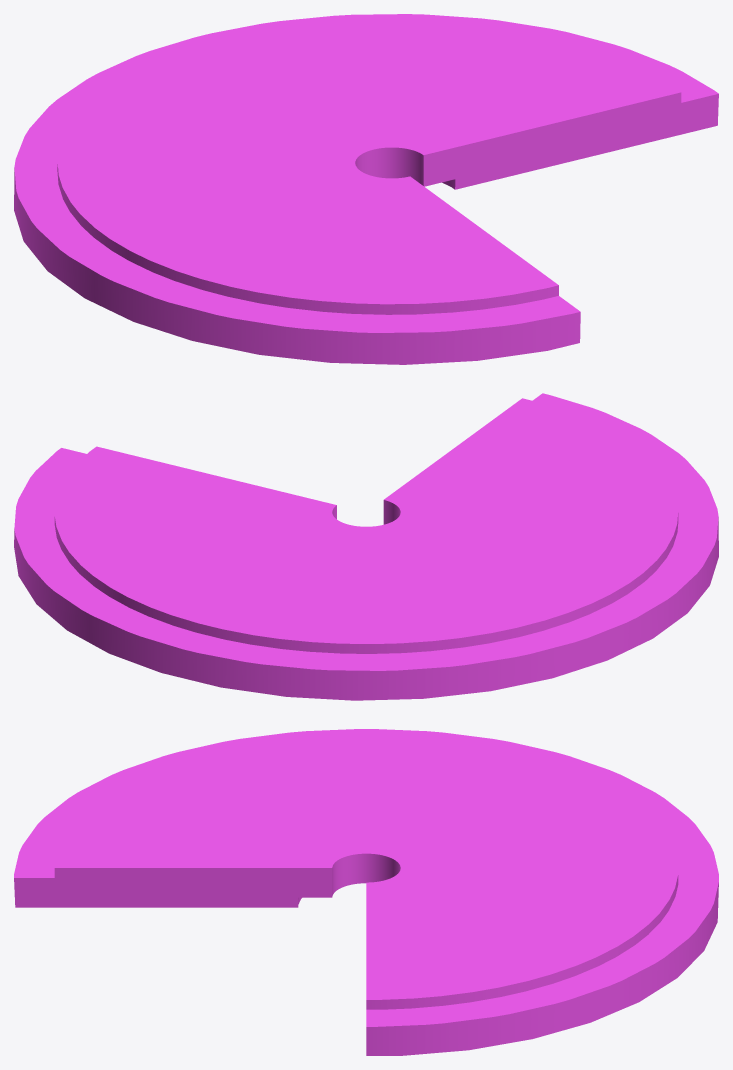
Rendered from Plaque maintient rouge.glb.
The picture shows the model from 3 angles, top to bottom: view 1: azimuth 30°, elevation 25°; view 2: azimuth 150°, elevation 25°; view 3: azimuth 270°, elevation 25°; orthographic projection. The views are drawn at different scales.
Bounding box in the file's own units: 64.78 × 4 × 64.78.
